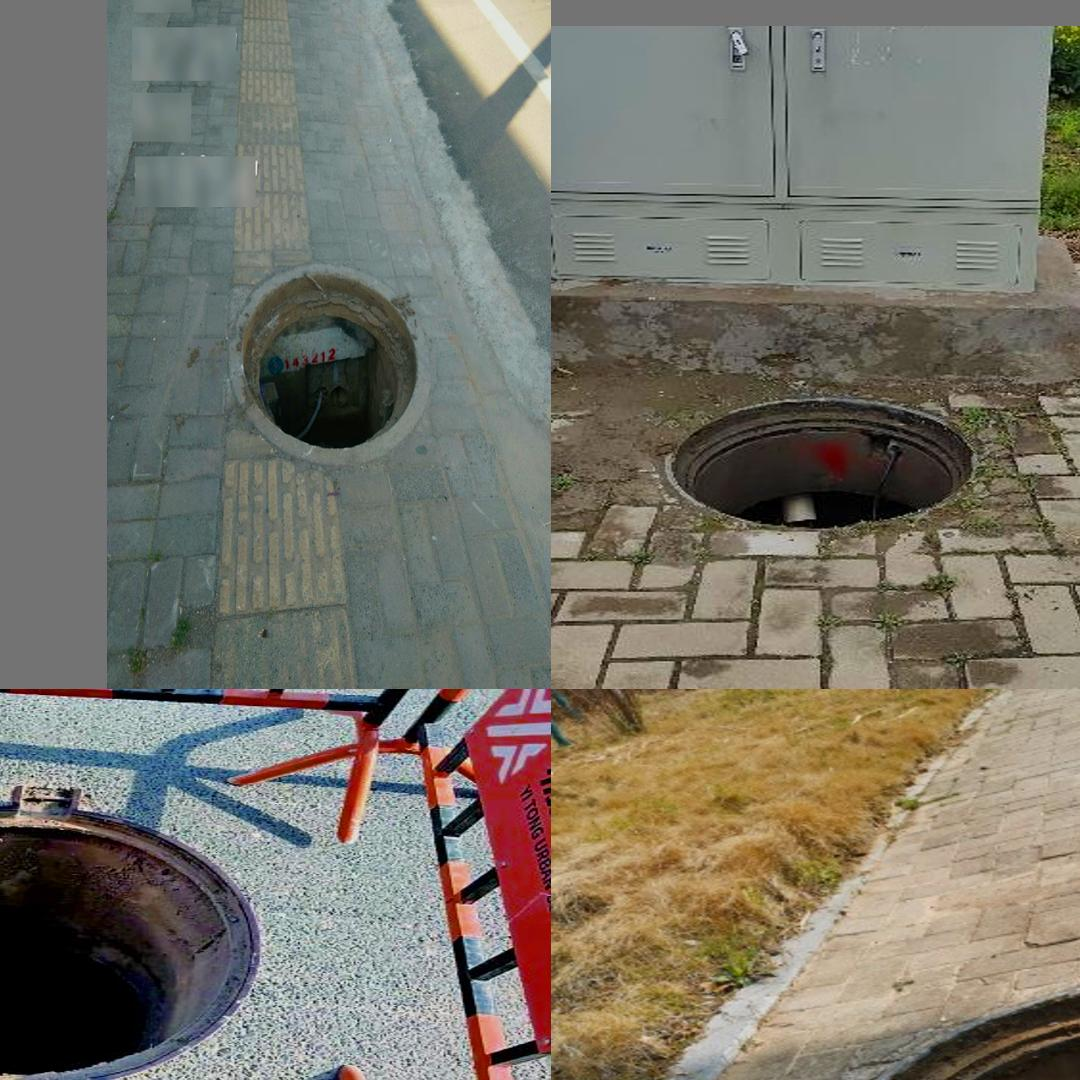lose: (0, 801, 271, 1080), (663, 396, 977, 530), (228, 263, 431, 469), (827, 967, 1080, 1080)
